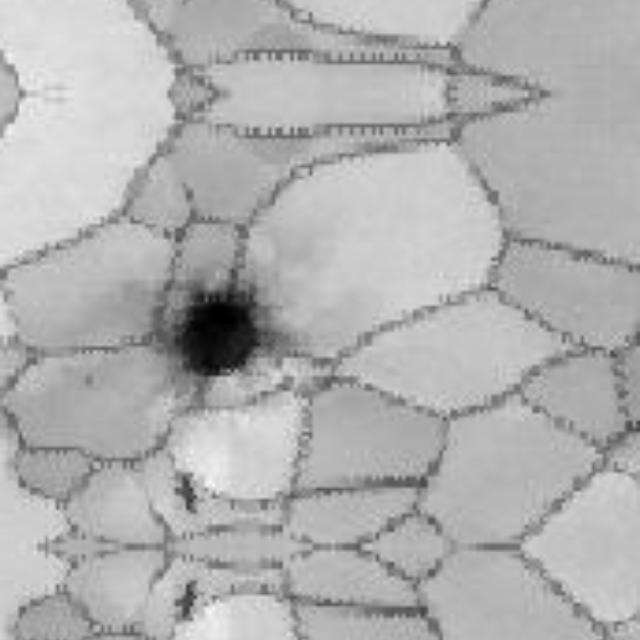good_void: (154, 273, 308, 382), (167, 472, 204, 513), (167, 581, 204, 622), (179, 179, 194, 200), (179, 0, 190, 7)
